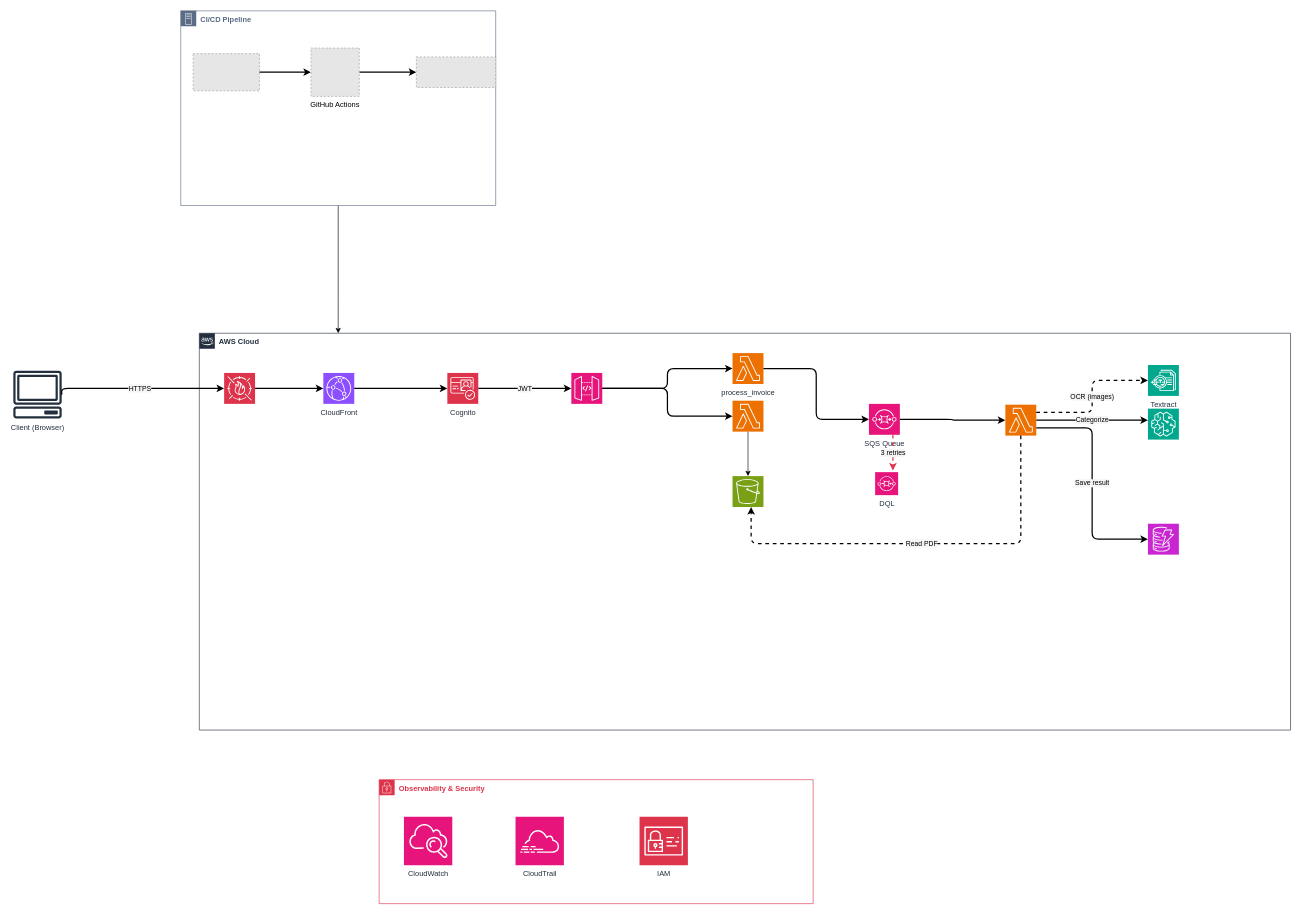
This 1301x915 diagram has some shape labels left out. Grey dashed boxes stand in for pictures. Each missing label, with the centre of its shape:
API Gateway: point 586,388
Bedrock (Claude): point 1163,424
DynamoDB: point 1163,539
get_upload_url: point 747,416
invoice_worker: point 1020,420
S3 (Invoices): point 747,491
WAF: point 239,388
